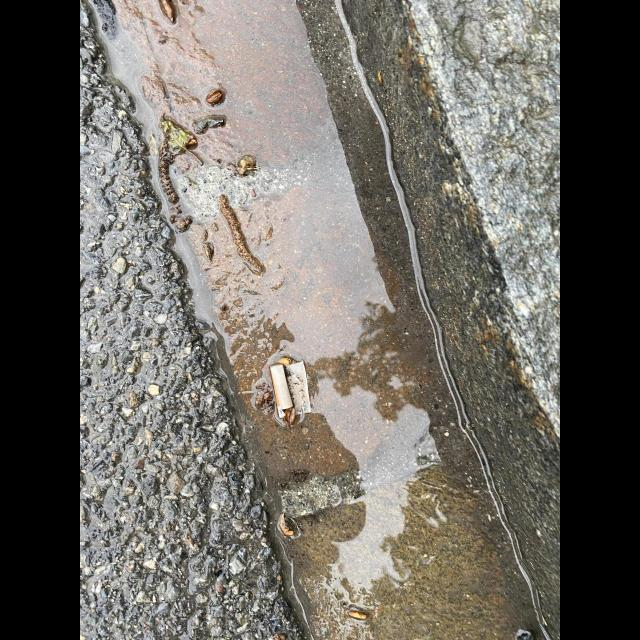cigarette: (269, 361, 312, 418)
